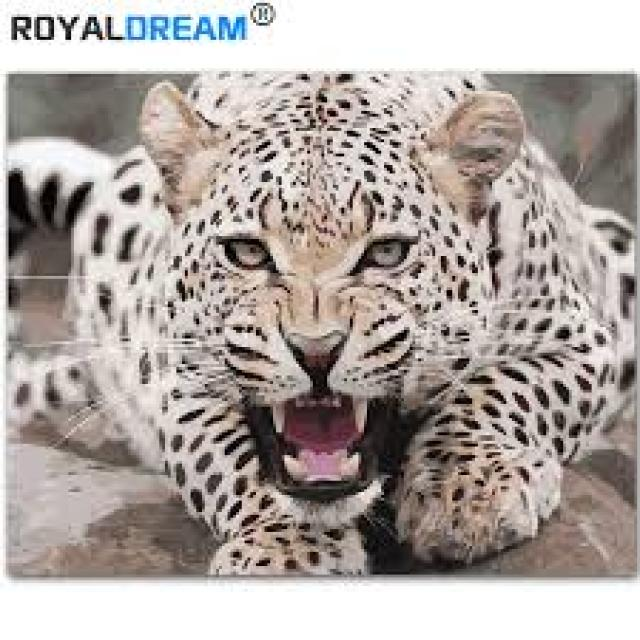Jaguar: (0, 71, 640, 575)
